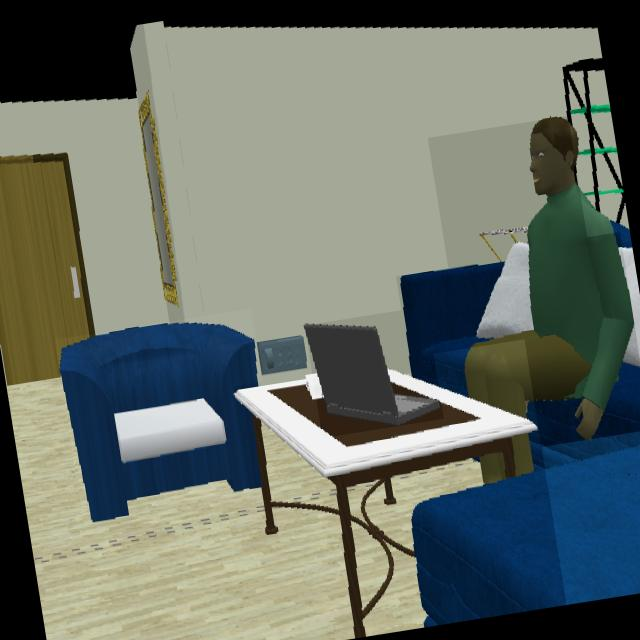laptop: (305, 325, 442, 427)
person: (465, 117, 634, 439)
pillow: (478, 240, 537, 342), (619, 248, 640, 367)
shelf: (563, 58, 630, 230)
sofa: (411, 327, 640, 628), (60, 326, 267, 524), (400, 264, 505, 394)
table: (235, 370, 539, 638)
